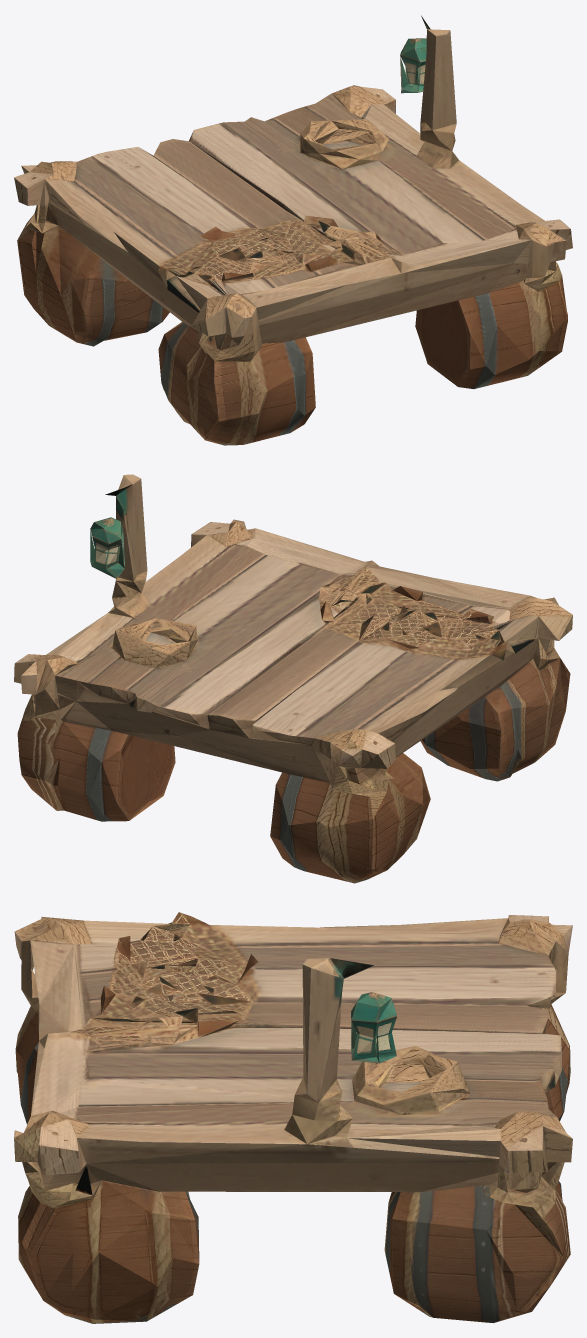
The model's file is raft.glb.
3 renders of one model, top to bottom at view 1: azimuth 30°, elevation 25°; view 2: azimuth 150°, elevation 25°; view 3: azimuth 270°, elevation 25°, orthographic. The views are drawn at different scales.
Bounding box in the file's own units: 1.9 × 1.36 × 1.9.
Materials: 1 (1 with a texture image).
